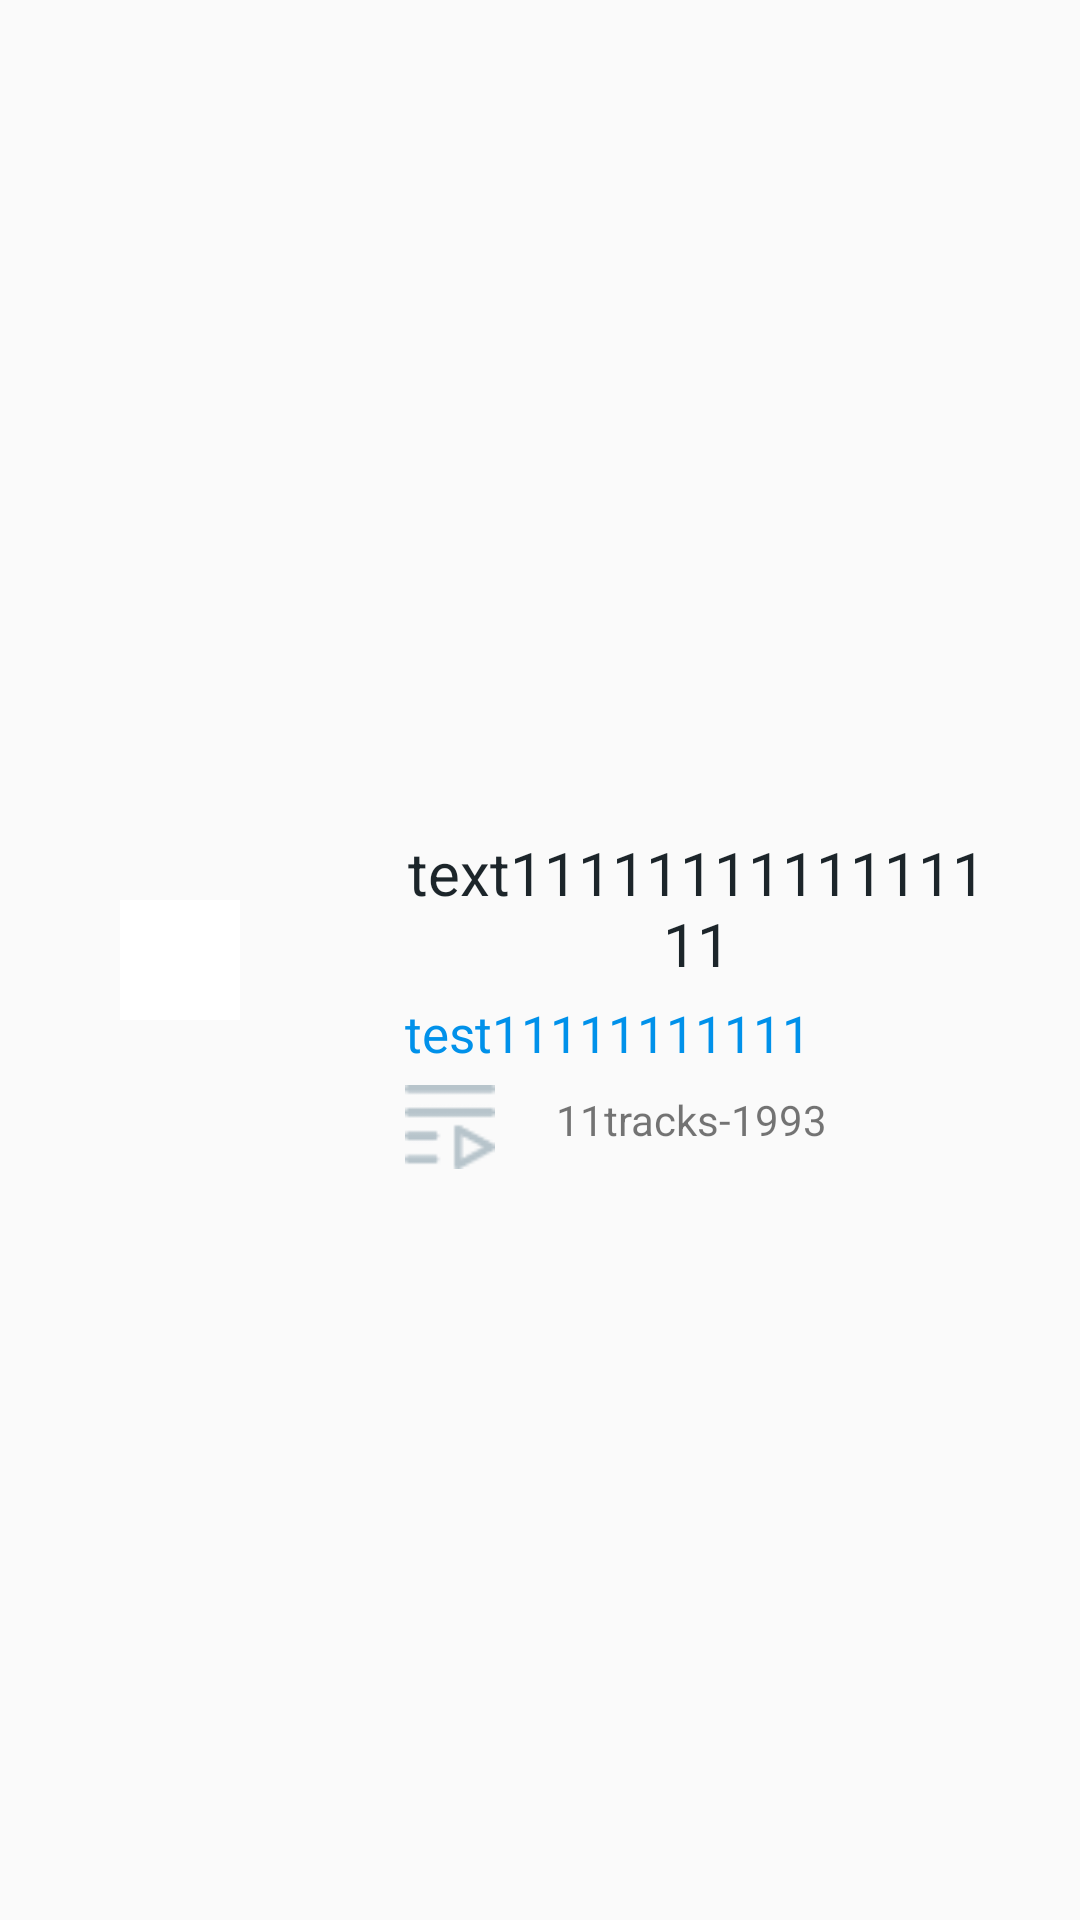

Screen size 1080 × 1920. Icon name, then its center in pixels as [x,y]:
playlist: [450,1127]
